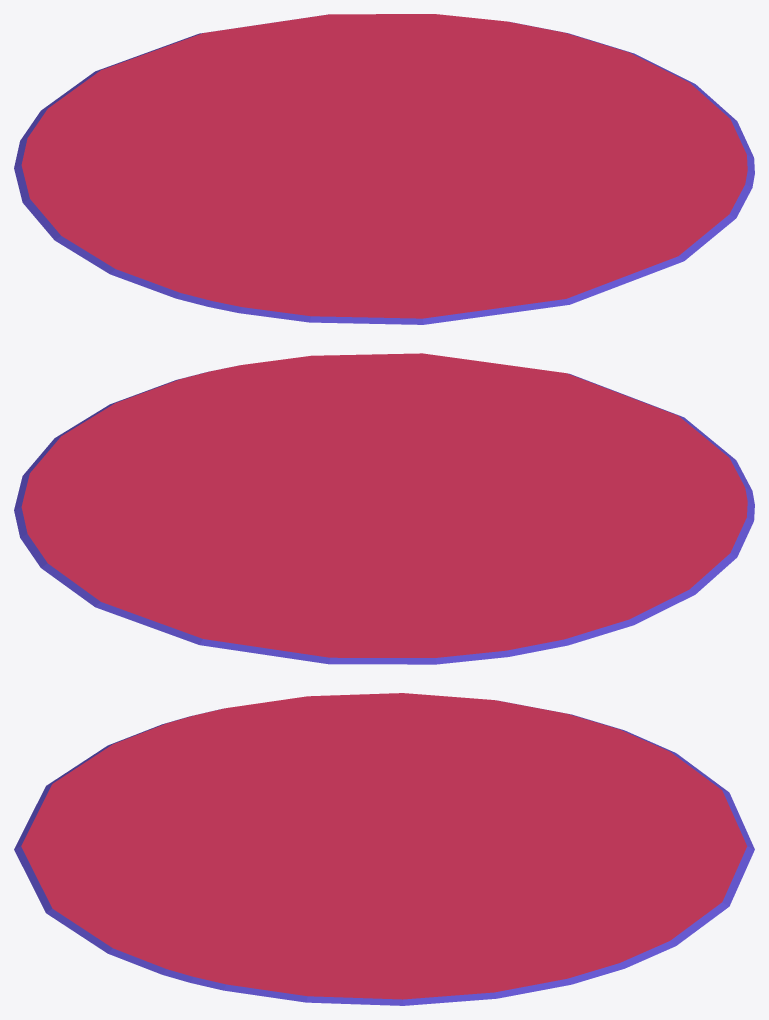
The model's file is Dywan.fbx.
The picture shows the model from 3 angles, top to bottom: view 1: azimuth 30°, elevation 25°; view 2: azimuth 150°, elevation 25°; view 3: azimuth 270°, elevation 25°; orthographic projection.
Visible parts, largest first — view 1: Dywan; view 2: Dywan; view 3: Dywan.
Boxes of the visible parts, left/top/right/bottom form: Dywan: left=14, top=14, right=754, bottom=324; Dywan: left=14, top=353, right=754, bottom=664; Dywan: left=14, top=693, right=754, bottom=1005.
Bounding box in the file's own units: 405 × 406 × 2.
